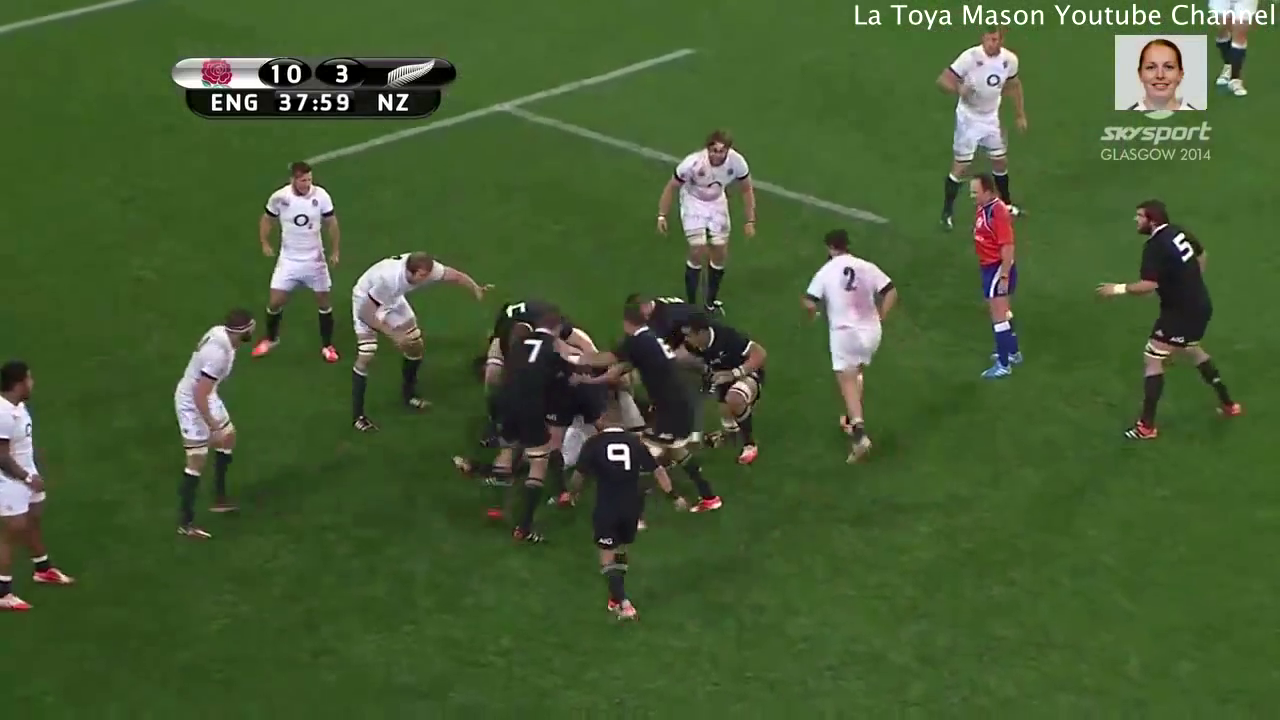player: (1086, 196, 1257, 464), (567, 309, 735, 528), (334, 230, 497, 443), (469, 295, 588, 568), (789, 224, 914, 481), (557, 397, 686, 636), (915, 15, 1049, 238), (638, 106, 764, 330), (237, 148, 361, 374), (163, 301, 264, 553), (1, 339, 82, 628), (667, 299, 790, 467), (957, 156, 1032, 400), (605, 282, 722, 348)
ruck: (430, 265, 745, 536)
